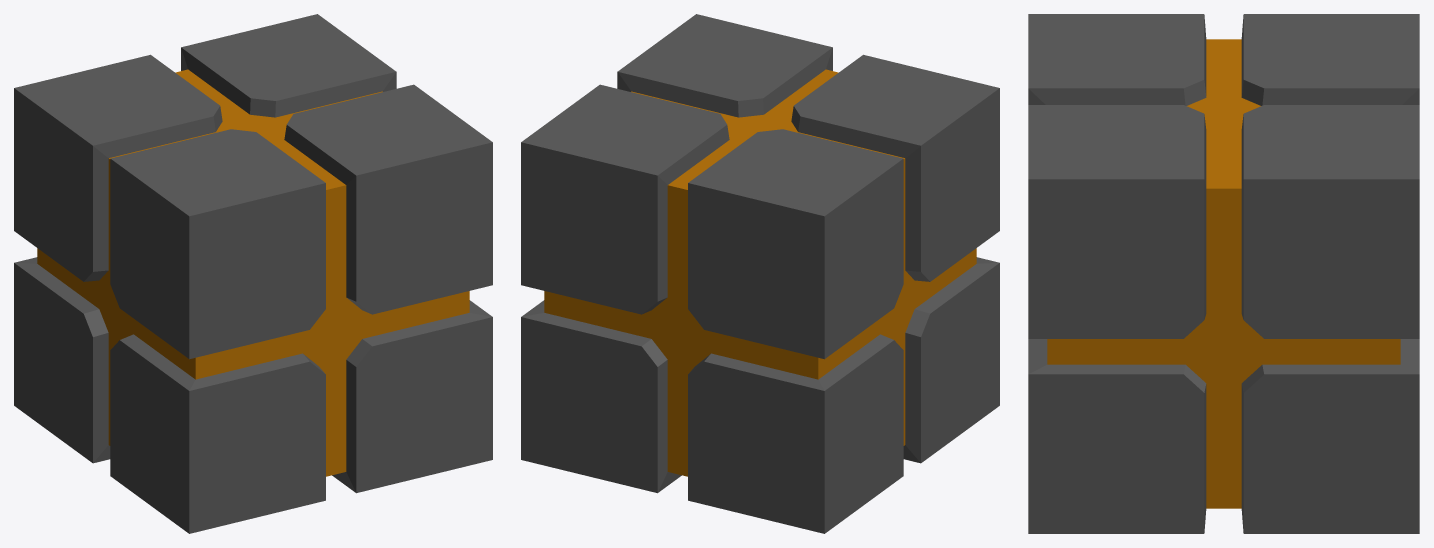
File: box_orange.fbx
3 renders of one model, left to right at view 1: azimuth 30°, elevation 25°; view 2: azimuth 150°, elevation 25°; view 3: azimuth 270°, elevation 25°, orthographic. The views are drawn at different scales.
Parts seen in each view (by area): view 1: pCube8; view 2: pCube8; view 3: pCube8.
Part boxes in pixels (left/top/right/bottom): pCube8: left=14, top=14, right=492, bottom=533; pCube8: left=521, top=14, right=999, bottom=533; pCube8: left=1028, top=14, right=1419, bottom=533.
Bounding box in the file's own units: 230 × 230 × 230.
